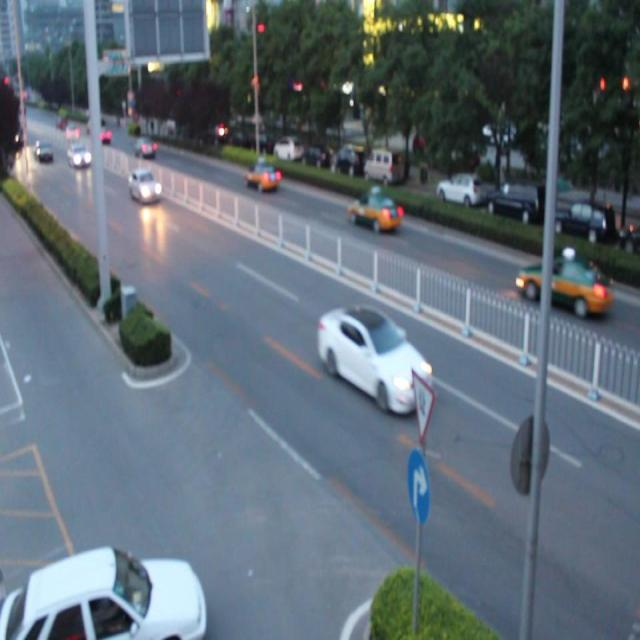car: (1, 545, 204, 640), (317, 304, 431, 412), (516, 254, 606, 313), (350, 190, 400, 228), (127, 169, 161, 201), (245, 162, 278, 190)
